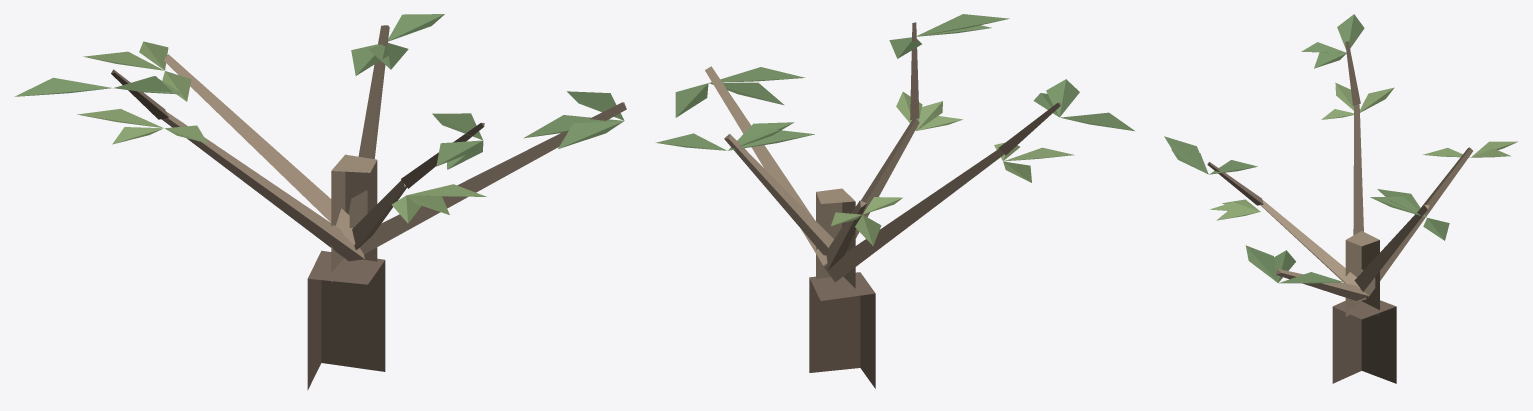
Rendered from hua.mei@subadult__summer.glb.
3 views of the same model, side by side, from view 1: azimuth 30°, elevation 25°; view 2: azimuth 150°, elevation 25°; view 3: azimuth 270°, elevation 25° (orthographic). The views are drawn at different scales.
Visible parts, largest first — view 1: hua.mei@subadult__summer; view 2: hua.mei@subadult__summer; view 3: hua.mei@subadult__summer.
Boxes of the visible parts, <box> form: hua.mei@subadult__summer: <box>14,14,626,390</box>; hua.mei@subadult__summer: <box>655,14,1134,388</box>; hua.mei@subadult__summer: <box>1164,14,1517,383</box>.
Size of the model in its own units: 1.92 by 1.22 by 1.51.
